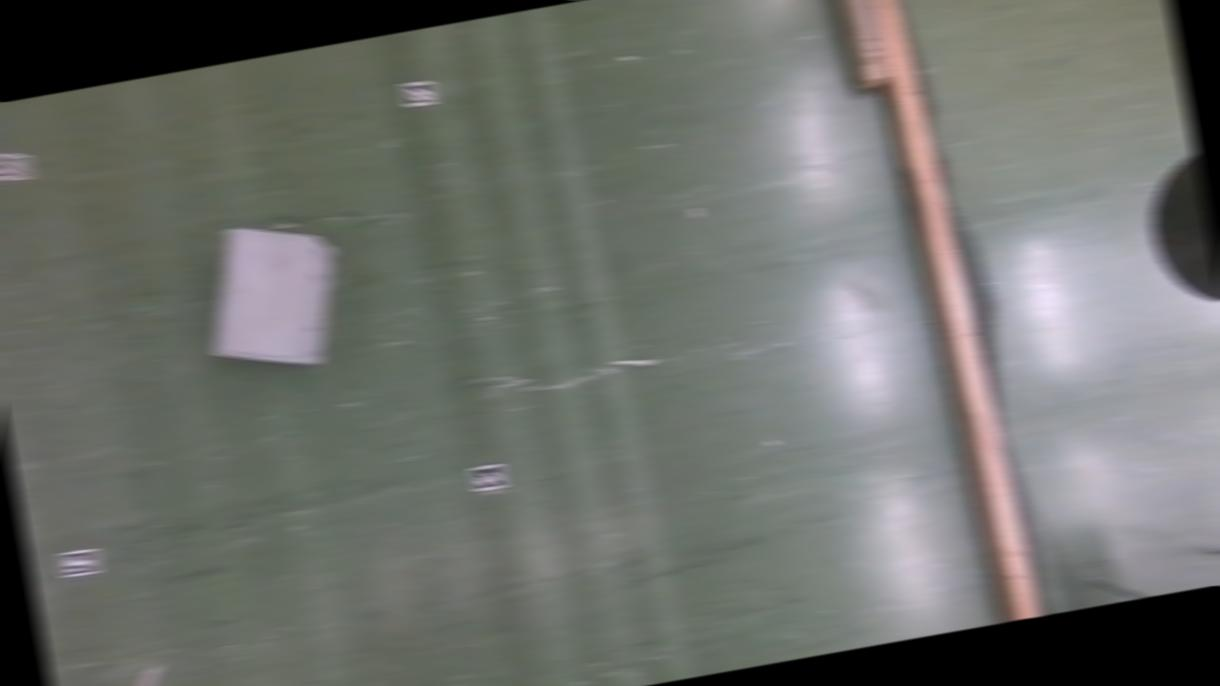probes: (606, 349, 664, 375), (123, 663, 168, 686)
rako: (192, 212, 354, 384)
